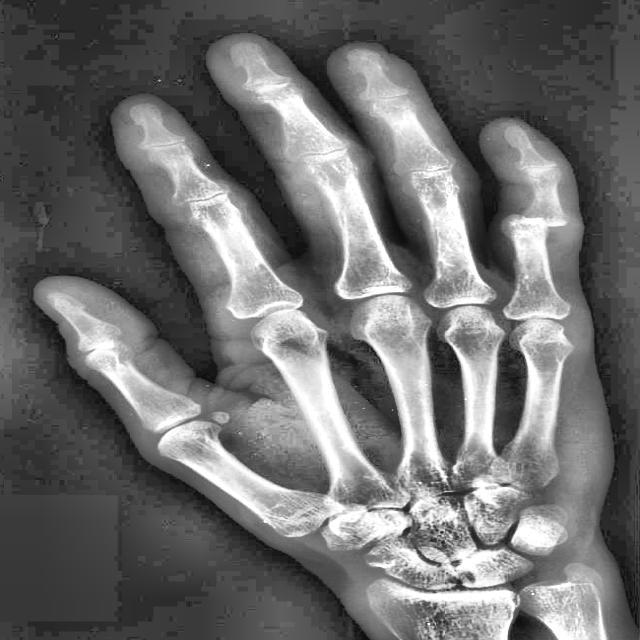fracture: (514, 213, 554, 230)
